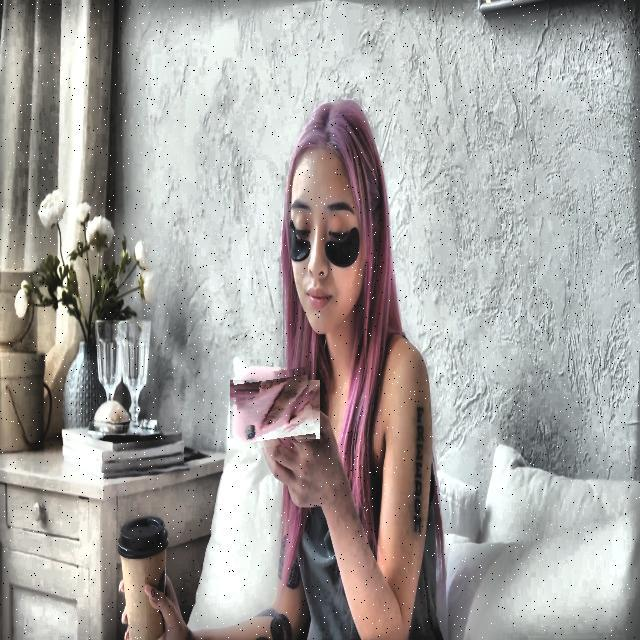Phone: (236, 369, 314, 448)
